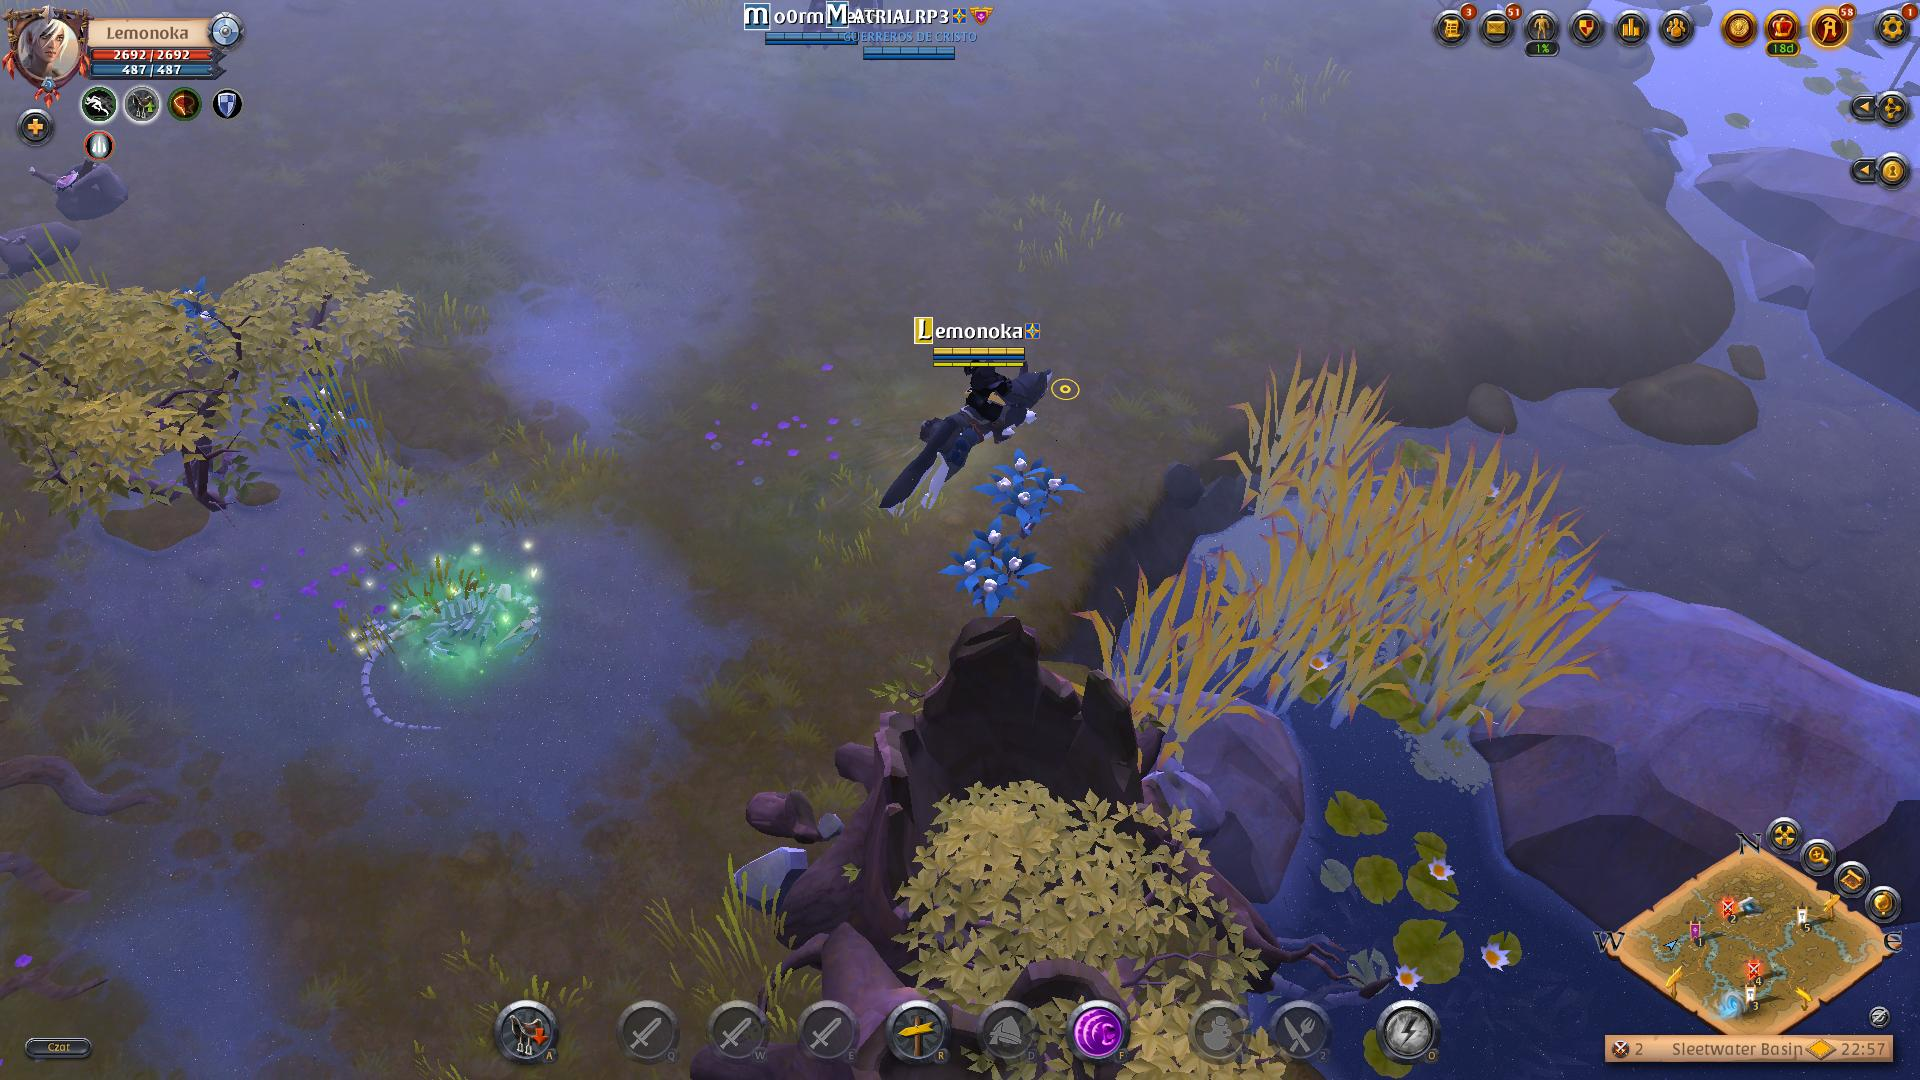fiber tier 4: (936, 520, 1047, 615), (977, 448, 1080, 529)
